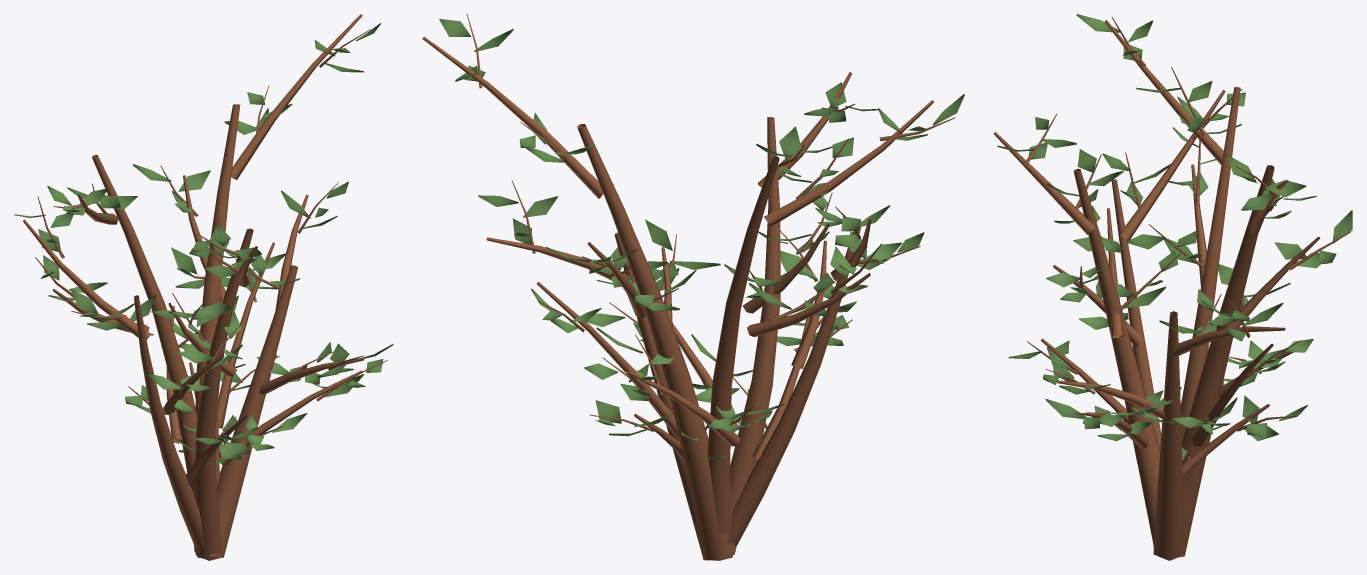
File: Arbousier_0_Low.fbx
3 renders of one model, left to right at view 1: azimuth 30°, elevation 25°; view 2: azimuth 150°, elevation 25°; view 3: azimuth 270°, elevation 25°, orthographic. The views are drawn at different scales.
Parts seen in each view (by area): view 1: Arbousier_0_Low; view 2: Arbousier_0_Low; view 3: Arbousier_0_Low.
Boxes of the visible parts, bbox=[...] form: Arbousier_0_Low: bbox=[14, 14, 393, 560]; Arbousier_0_Low: bbox=[422, 14, 964, 560]; Arbousier_0_Low: bbox=[993, 14, 1352, 560].
Size of the model in its own units: 223 by 248 by 166.
